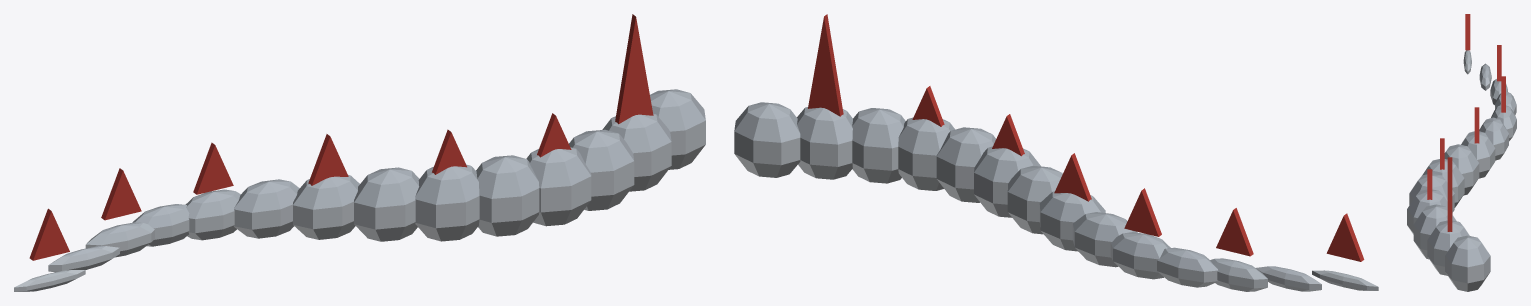
Rendered from fish-oarfish.glb.
The picture shows the model from 3 angles, left to right: view 1: azimuth 30°, elevation 25°; view 2: azimuth 150°, elevation 25°; view 3: azimuth 270°, elevation 25°; orthographic projection. The views are drawn at different scales.
Parts seen in each view (by area): view 1: fish-oarfish; view 2: fish-oarfish; view 3: fish-oarfish.
Boxes of the visible parts, bbox=[...] form: fish-oarfish: bbox=[14, 14, 705, 291]; fish-oarfish: bbox=[734, 14, 1378, 291]; fish-oarfish: bbox=[1407, 14, 1516, 291].
Bounding box in the file's own units: 1.12 × 0.27 × 0.2297.
